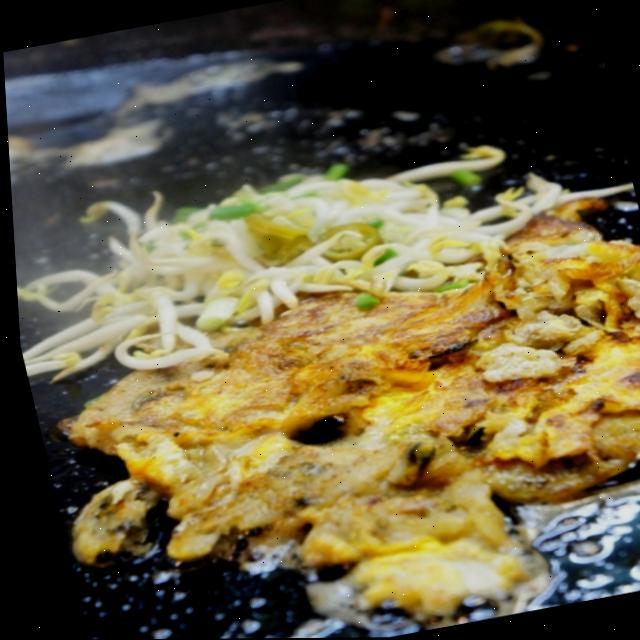炸货点心: (4, 88, 640, 640)
蛋糕甜品: (4, 88, 640, 640)
